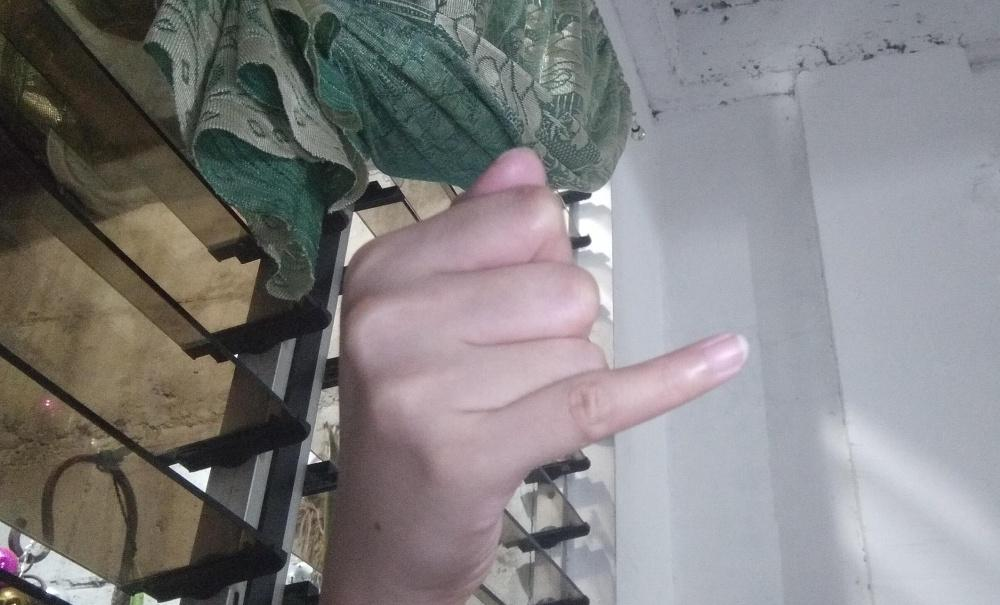j: (334, 144, 750, 574)
